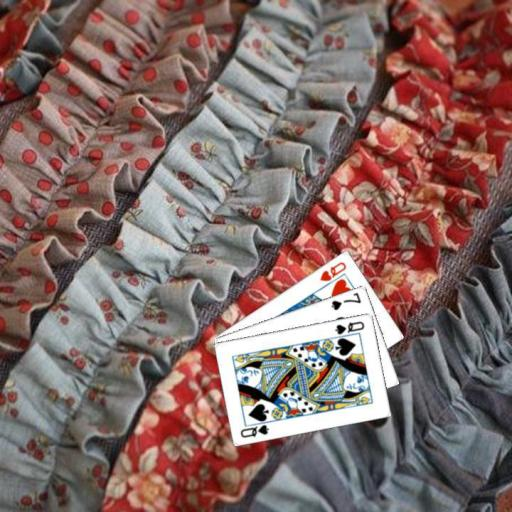7S: (329, 289, 363, 312)
QH: (316, 258, 348, 282)
QS: (332, 318, 366, 336), (238, 421, 270, 439)
